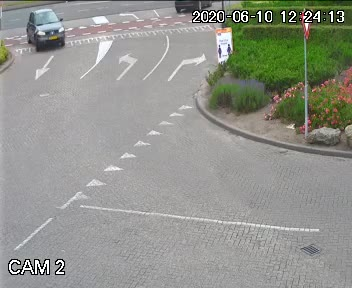car: (21, 7, 66, 56)
